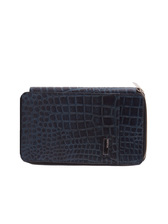other: (19, 87, 156, 171)
